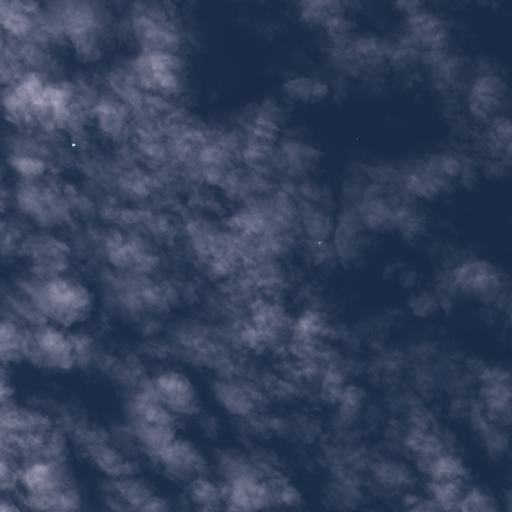Iceberg: (72, 143, 75, 146), (318, 241, 321, 243), (356, 137, 358, 139)
